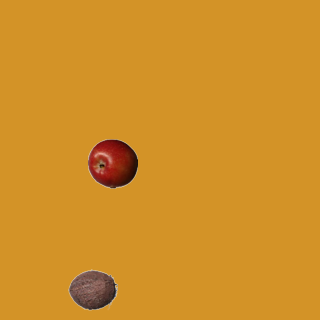Apple Braeburn: (87, 138, 137, 188)
Cocos: (67, 264, 117, 314)
